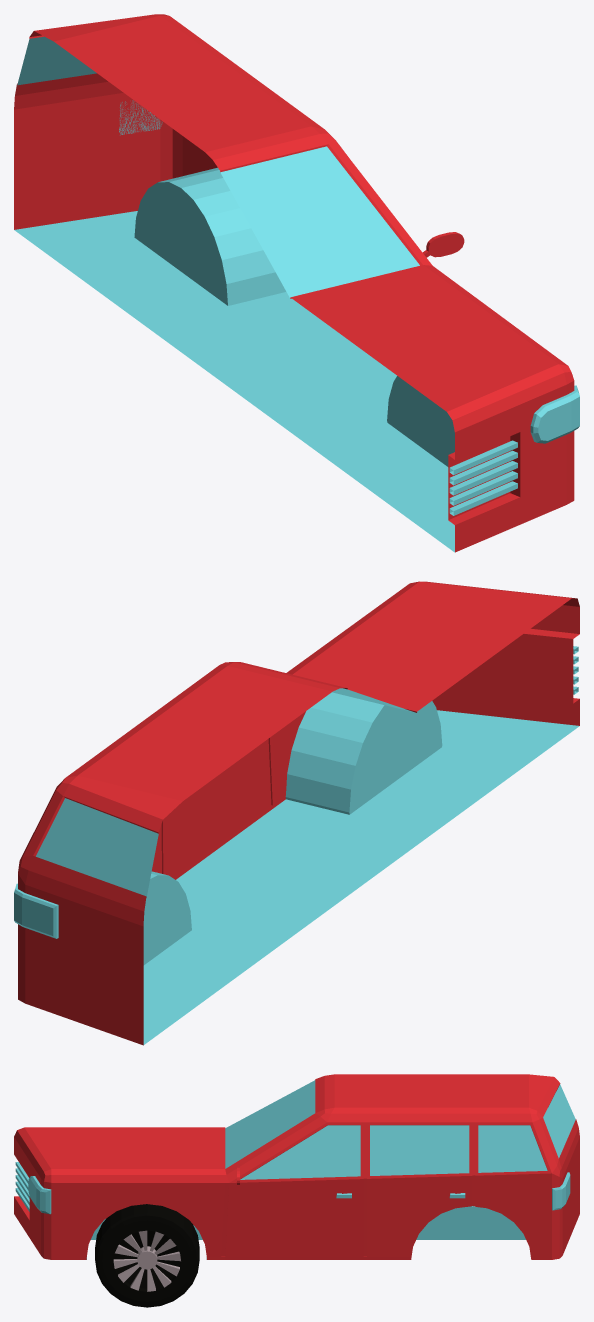
The model's file is car_normalized.glb.
3 views of the same model, one above another, from view 1: azimuth 30°, elevation 25°; view 2: azimuth 150°, elevation 25°; view 3: azimuth 270°, elevation 25° (orthographic). The views are drawn at different scales.
Parts seen in each view (by area): view 1: Cube; view 2: Cube; view 3: Cube, Cylinder.
Boxes of the visible parts, x1,y1,x2,y2 form: Cube: [14, 14, 579, 552]; Cube: [14, 581, 579, 1045]; Cube: [14, 1074, 579, 1259]; Cylinder: [95, 1204, 199, 1307].
Bounding box in the file's own units: 8.78 × 13.4 × 36.64.
